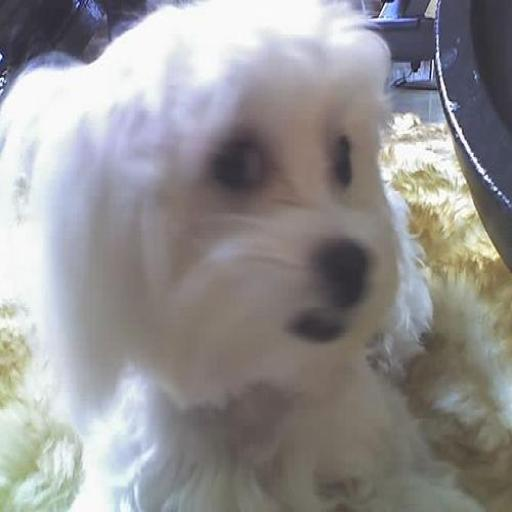dog_face: (38, 8, 409, 410)
